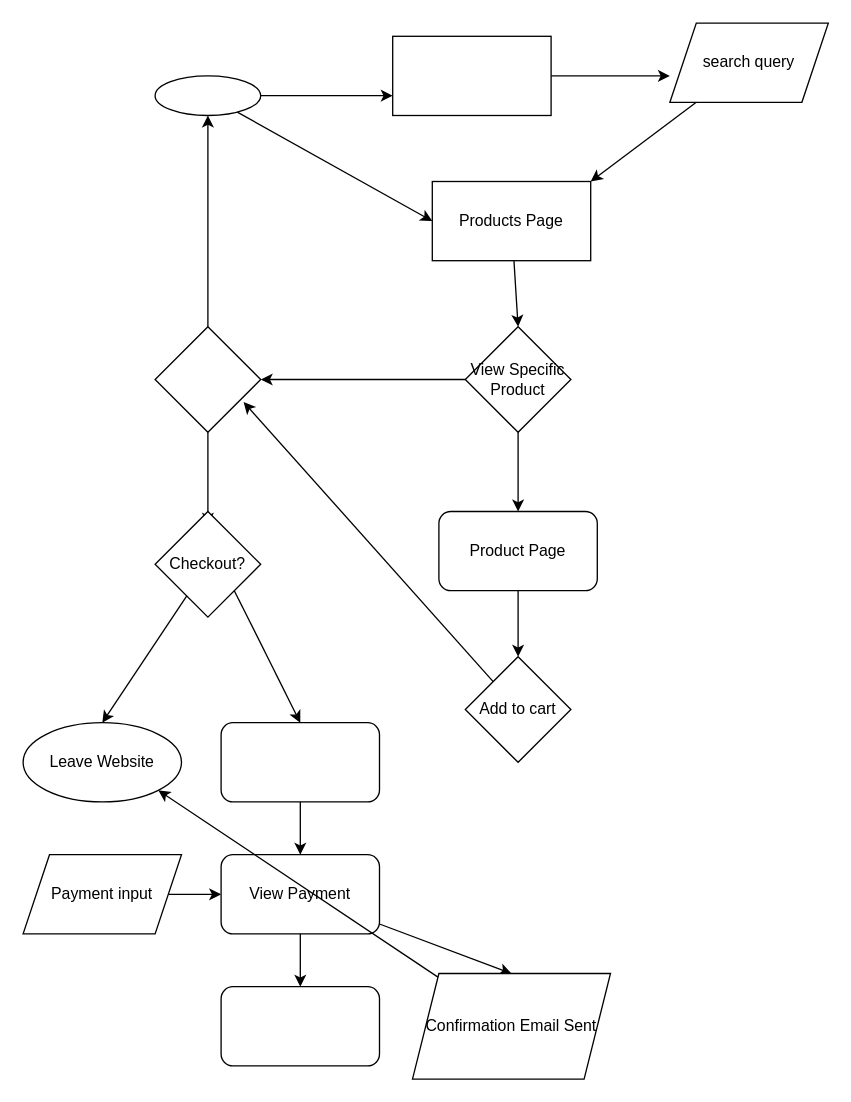
The diagram is 851 pixels wide and 1102 high, and some of its shapes have lost their labels. The shapes that lost their labels are listed below. From the top down, each one's centre as x and y in pixels, then its label:
At (x=207, y=95): "Enter Website".
At (x=471, y=75): "Search for Product".
At (x=207, y=378): "continue shopping?".
At (x=300, y=761): "View Cart".
At (x=300, y=1025): "Confirmation Screen".
